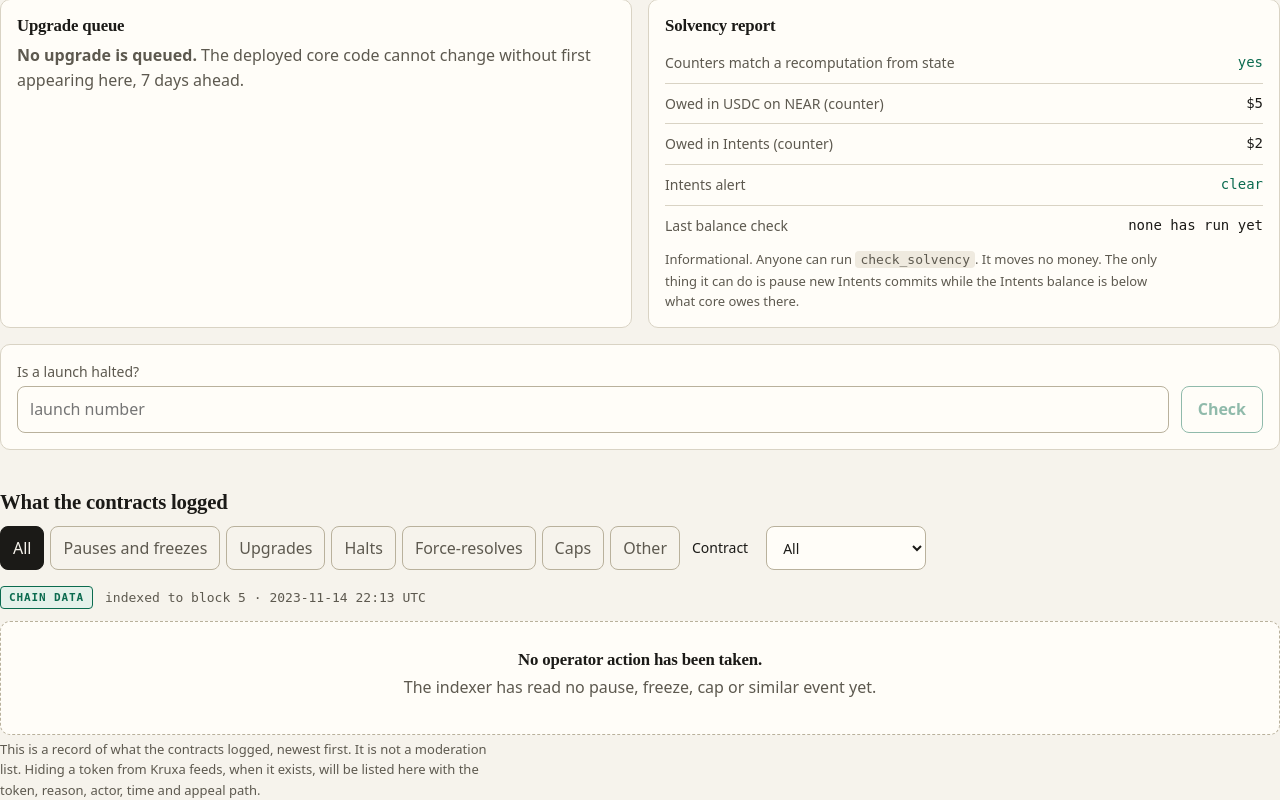
Test: /ops-log › says no upgrade is queued, and reports whether a launch is halted
(page scrolled)
Expected: the text "No upgrade is queued." is shown, [17,44,197,66]
Type "9" into the field labelled "Is a launch halted?". click: (593, 410)
box: [17,386,1169,433]
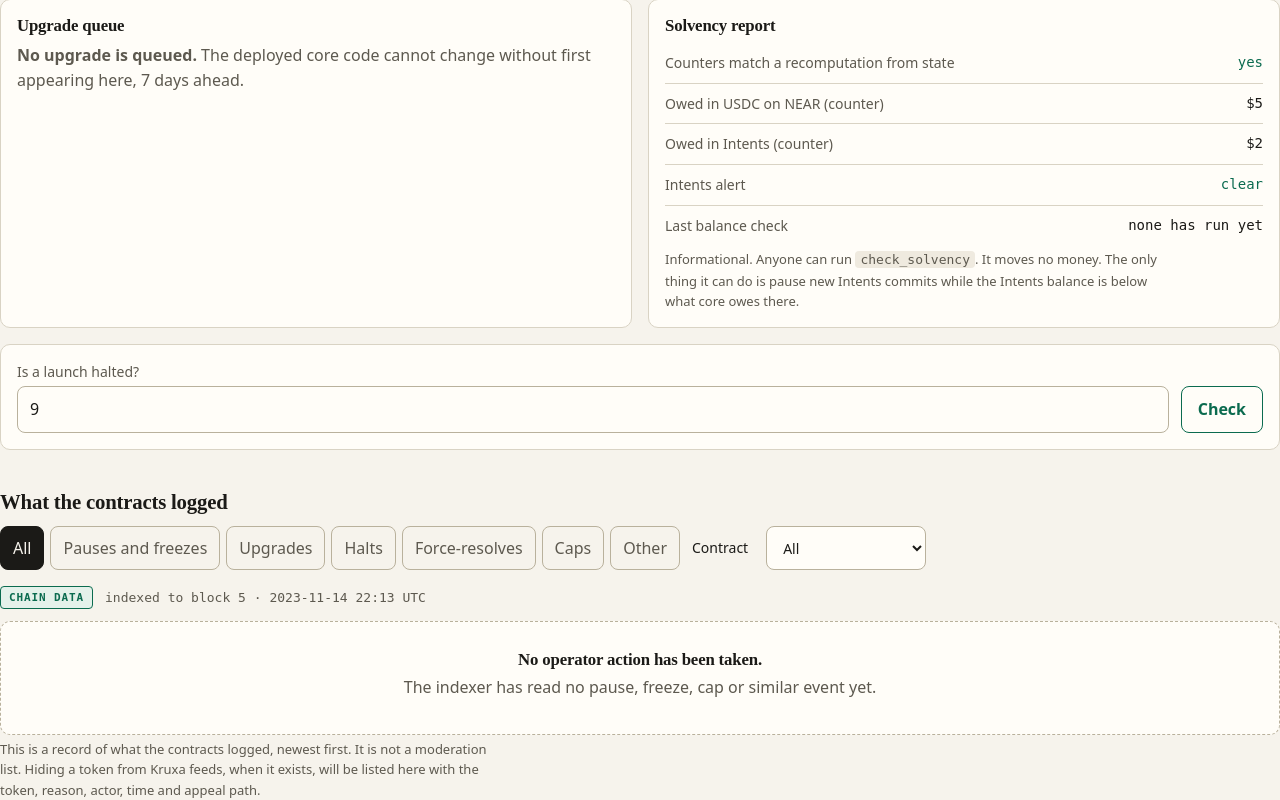
Click the button "Check". click: click(1222, 410)
box: [1181,386,1263,433]
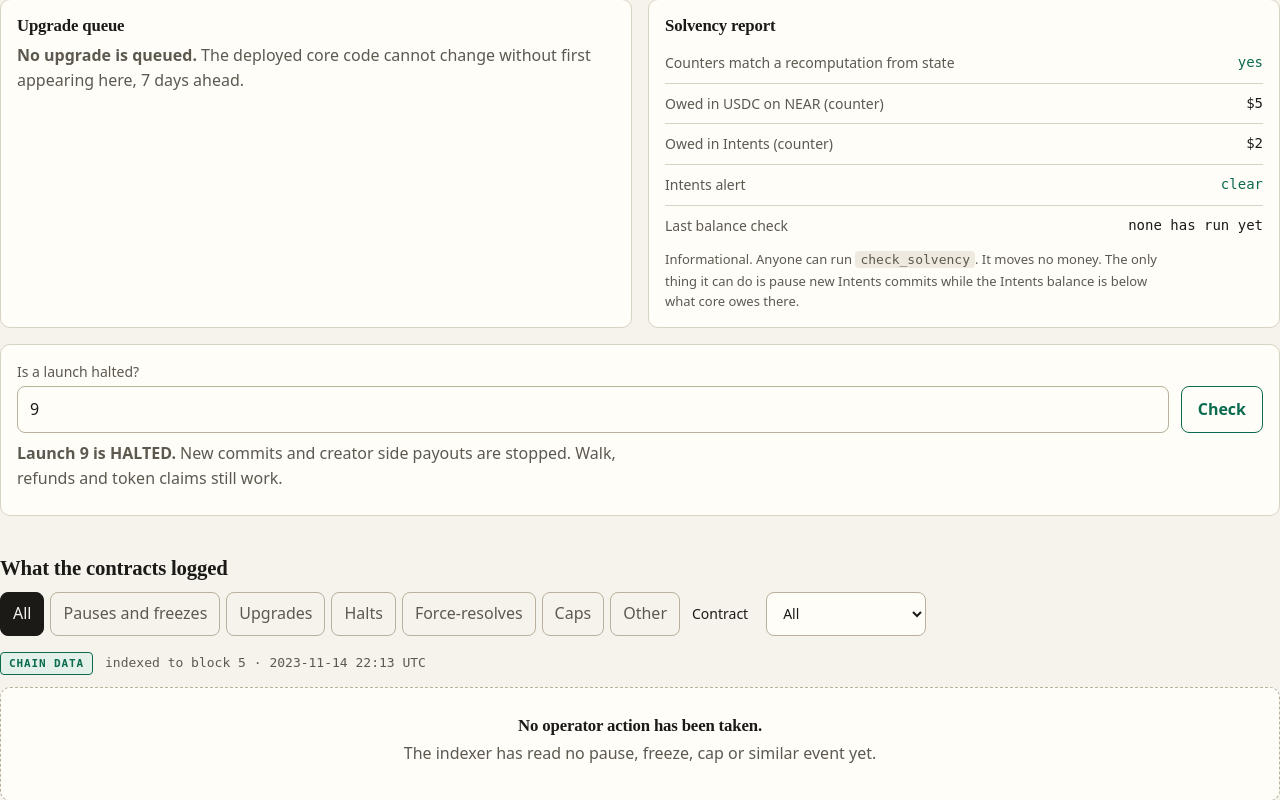
Expected: the text "Launch 9 is HALTED." is shown, [17,442,176,464]
Expected: the text "Walk, refunds and token claims still work" is shown, [17,442,616,489]
